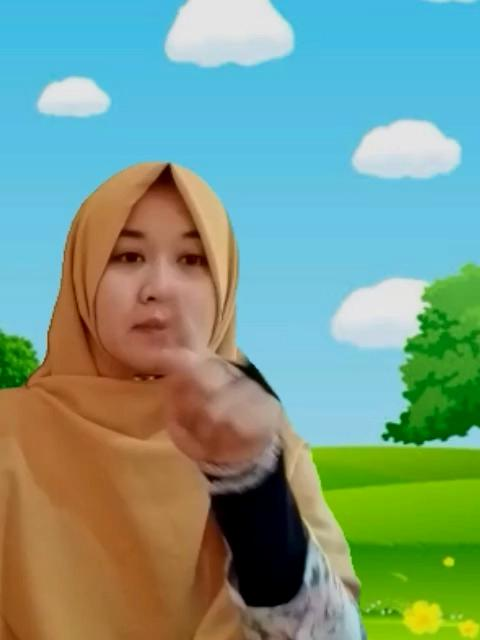Z: (138, 258, 290, 464)
